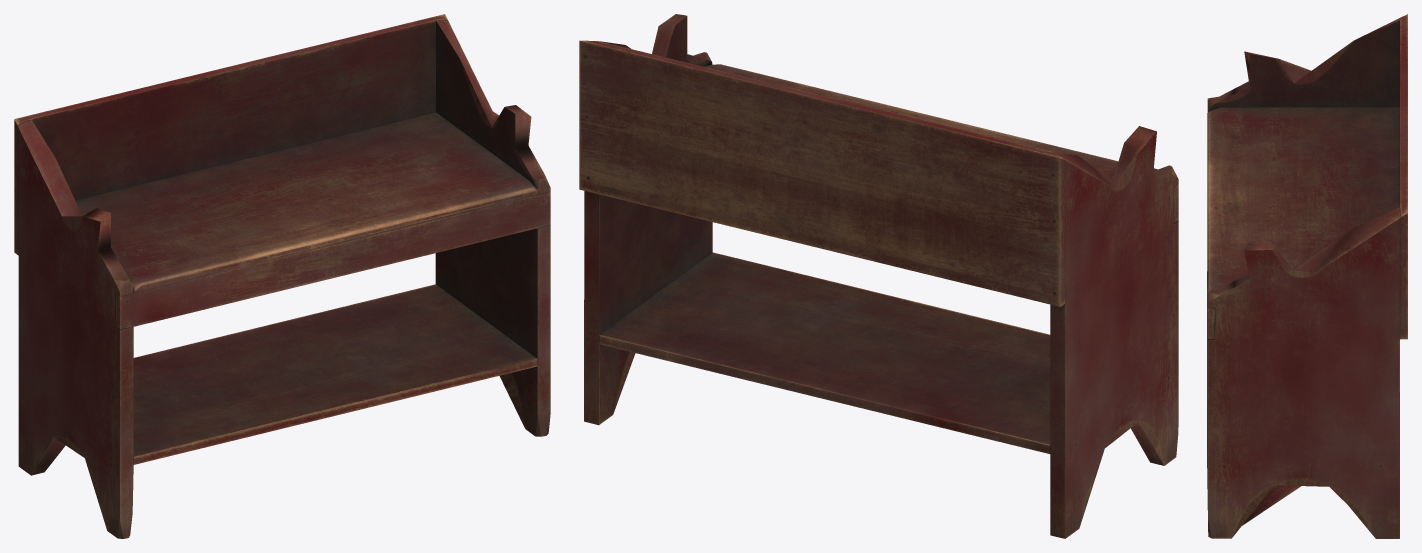
The model's file is painted_wooden_bench_lod2.glb.
The picture shows the model from 3 angles, left to right: view 1: azimuth 30°, elevation 25°; view 2: azimuth 150°, elevation 25°; view 3: azimuth 270°, elevation 25°; orthographic projection. The views are drawn at different scales.
Parts seen in each view (by area): view 1: painted_wooden_bench; view 2: painted_wooden_bench; view 3: painted_wooden_bench.
Part boxes in pixels (x1,y1,x2,y2): painted_wooden_bench: (14, 14, 550, 538); painted_wooden_bench: (579, 14, 1178, 538); painted_wooden_bench: (1207, 14, 1407, 538).
Bounding box in the file's own units: 1.16 × 0.8893 × 0.4965.
Materials: 1 (1 with a texture image).
